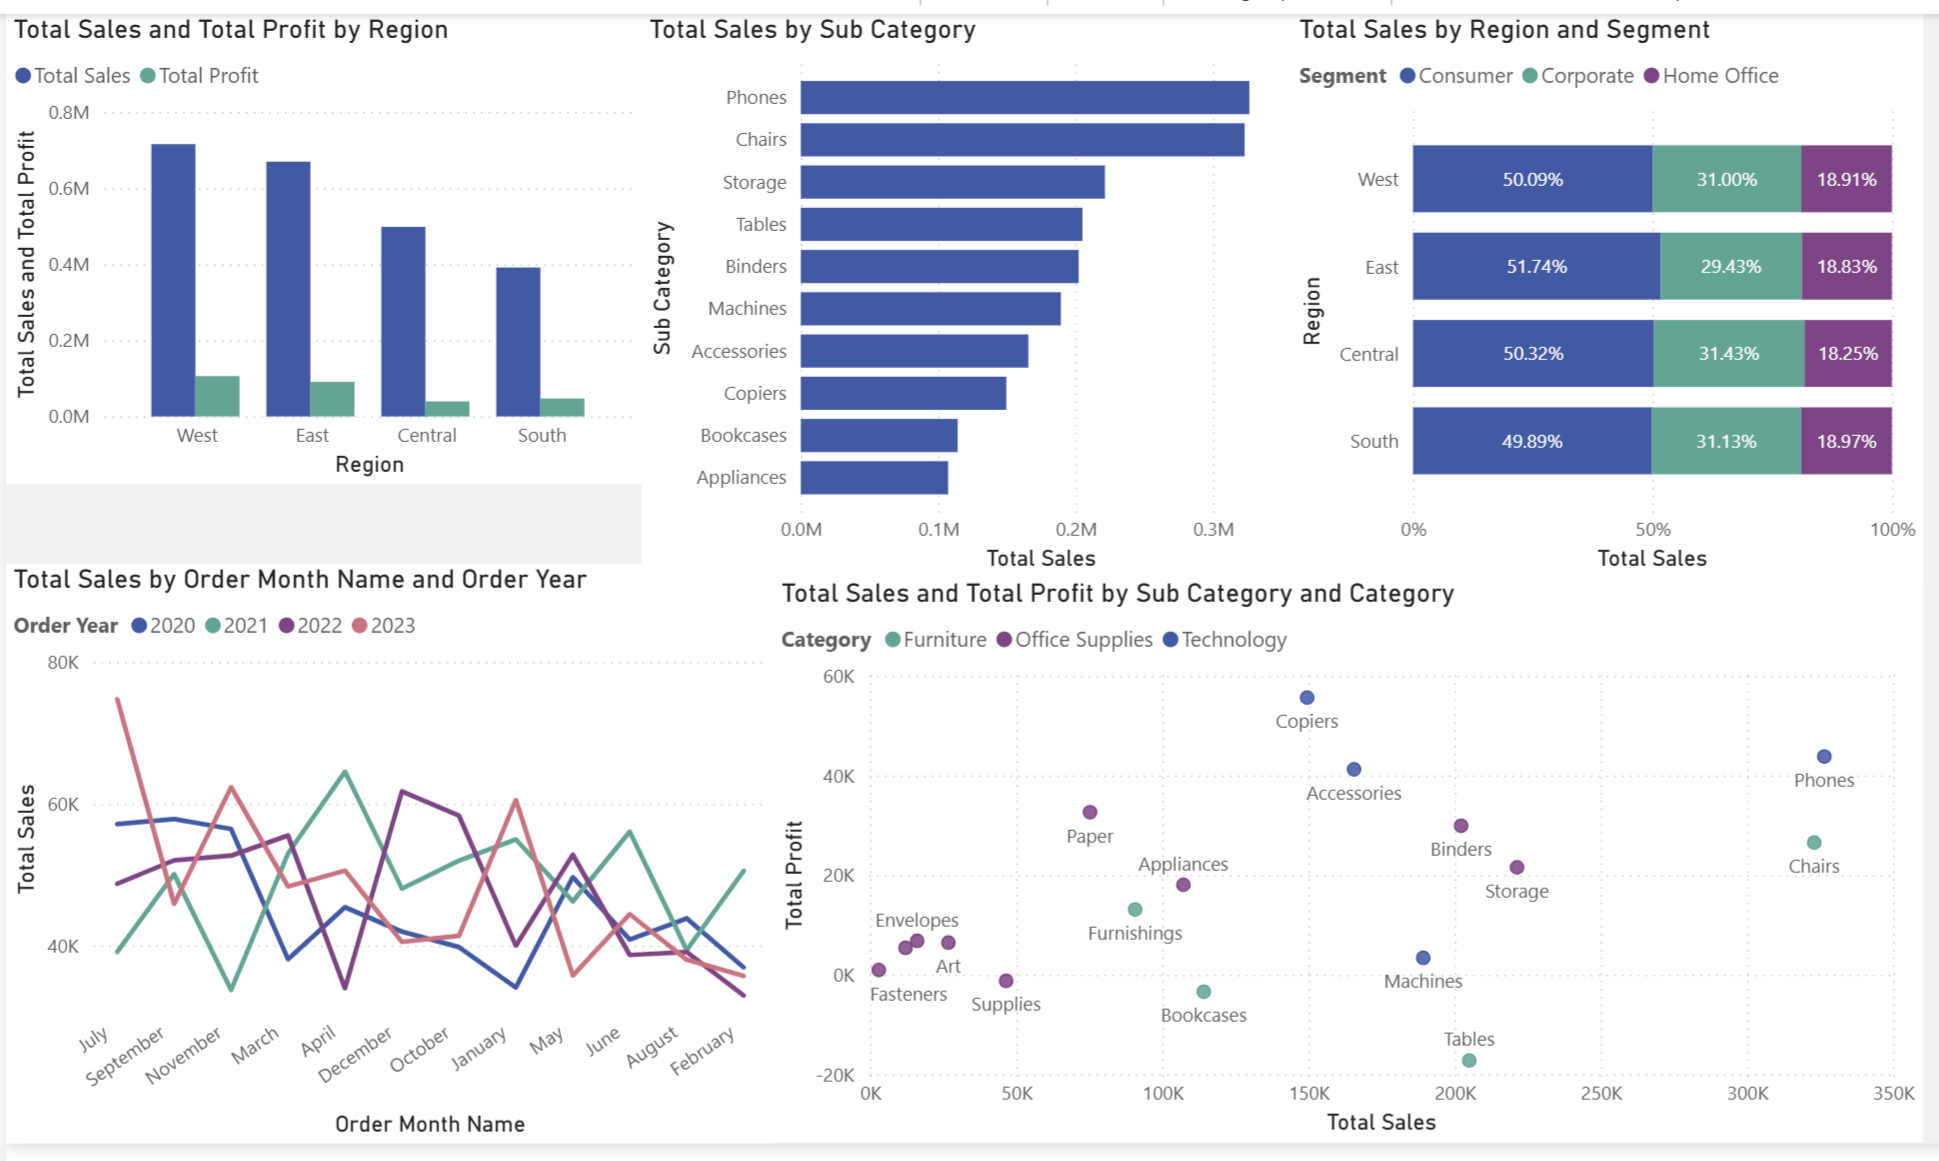

Layout of this report page (visuals, bound fields, positions):
{"tool":"powerbi","page":{"name":"Sales Analysis","canvas":[1280,720],"ordinal":1},"visuals":[{"type":"clusteredColumnChart","fields":{"Category":["SampleSuperstore.Region"],"Y":["SampleSuperstore.Total Sales","SampleSuperstore.Total Profit"]},"box":[0,0,405.7,300],"z":0},{"type":"clusteredBarChart","fields":{"Category":["SampleSuperstore.Sub Category"],"Y":["SampleSuperstore.Total Sales"]},"box":[405.7,0,427.1,360],"z":1000},{"type":"lineChart","fields":{"Category":["SampleSuperstore.Order Month Name"],"Y":["SampleSuperstore.Total Sales"],"Series":["SampleSuperstore.Order Year"]},"box":[0,350,490,370],"z":2000},{"type":"scatterChart","fields":{"X":["SampleSuperstore.Total Sales"],"Y":["SampleSuperstore.Total Profit"],"Series":["SampleSuperstore.Category"],"Category":["SampleSuperstore.Sub Category"]},"box":[490,360,732.9,360],"z":3000},{"type":"hundredPercentStackedBarChart","fields":{"Category":["SampleSuperstore.Region"],"Y":["SampleSuperstore.Total Sales"],"Series":["SampleSuperstore.Segment"]},"box":[820,0,402.9,360],"z":4000}]}

Visuals, with their boxes on the page's 1280x720 design canvas (x1, y1, x2, y2). These are canvas units, not pixel positions in the 1939x1161 screenshot, which may show the page scaled, cropped or inside an application window:
clusteredColumnChart - SampleSuperstore.Region x SampleSuperstore.Total Sales: bbox(0, 0, 406, 300)
clusteredBarChart - SampleSuperstore.Sub Category x SampleSuperstore.Total Sales: bbox(406, 0, 833, 360)
lineChart - SampleSuperstore.Order Month Name x SampleSuperstore.Total Sales: bbox(0, 350, 490, 720)
scatterChart - SampleSuperstore.Total Sales x SampleSuperstore.Total Profit: bbox(490, 360, 1223, 720)
hundredPercentStackedBarChart - SampleSuperstore.Region x SampleSuperstore.Total Sales: bbox(820, 0, 1223, 360)
